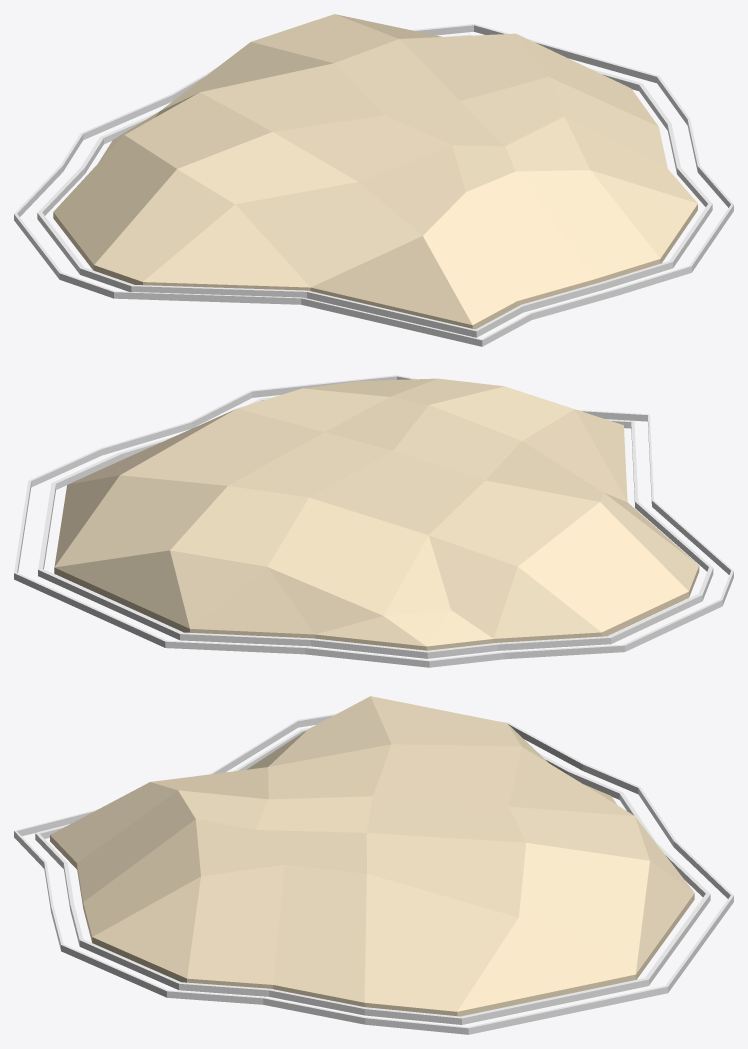
Rendered from uploads_files_2793148_Ground_small.fbx.
3 views of the same model, one above another, from view 1: azimuth 30°, elevation 25°; view 2: azimuth 150°, elevation 25°; view 3: azimuth 270°, elevation 25° (orthographic).
Visible parts, largest first — view 1: Ground_Small; view 2: Ground_Small; view 3: Ground_Small.
Boxes of the visible parts, left/top/right/bottom form: Ground_Small: left=14, top=14, right=733, bottom=346; Ground_Small: left=14, top=375, right=733, bottom=667; Ground_Small: left=14, top=696, right=733, bottom=1034.
Bounding box in the file's own units: 541 × 567 × 70.84.
